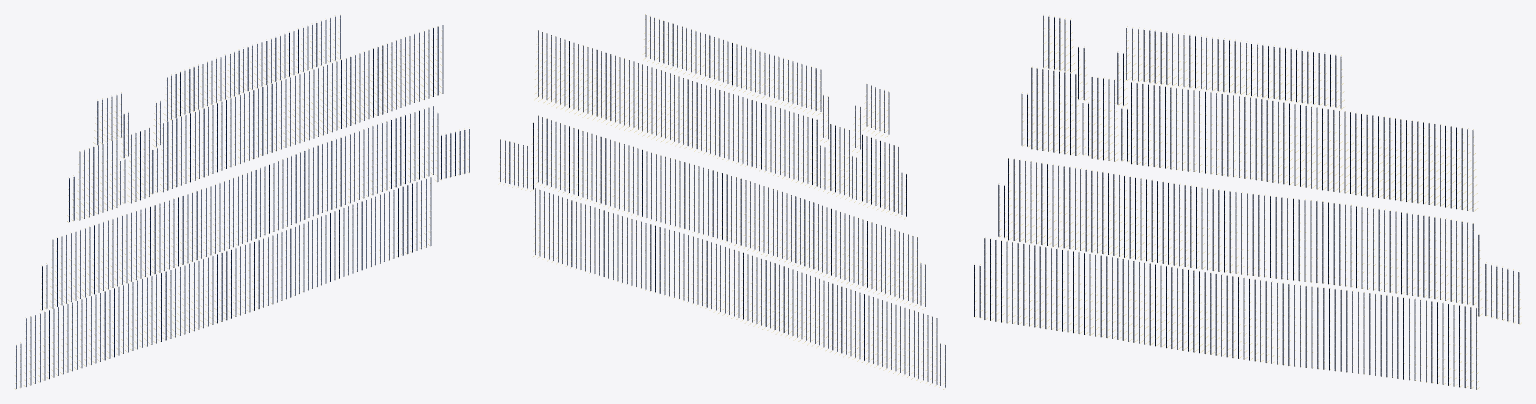
The model's file is solar_field.obj.
The picture shows the model from 3 angles, left to right: view 1: azimuth 30°, elevation 25°; view 2: azimuth 150°, elevation 25°; view 3: azimuth 330°, elevation 25°; orthographic projection. The views are drawn at different scales.
Bounding box in the file's own units: 687 × 437 × 50.81.
